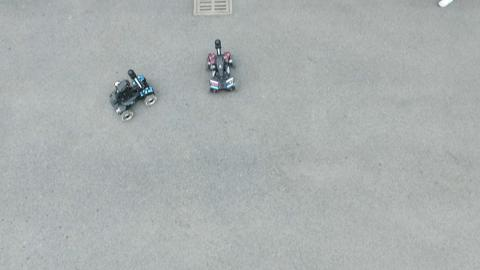chariot: (112, 67, 160, 121), (205, 37, 238, 95)
